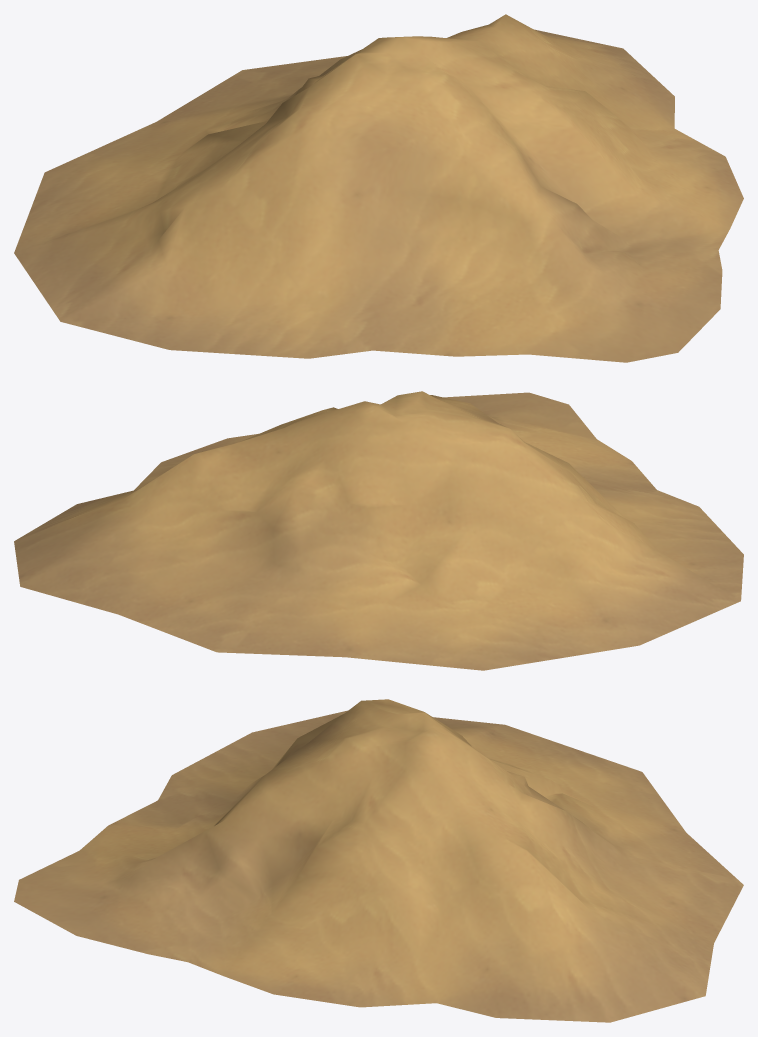
File: Area_11_25.fbx
The picture shows the model from 3 angles, top to bottom: view 1: azimuth 30°, elevation 25°; view 2: azimuth 150°, elevation 25°; view 3: azimuth 270°, elevation 25°; orthographic projection. The views are drawn at different scales.
Parts seen in each view (by area): view 1: Area_11_25; view 2: Area_11_25; view 3: Area_11_25.
Part boxes in pixels (x1=…): Area_11_25: x1=14, y1=14, x2=743, y2=362; Area_11_25: x1=14, y1=391, x2=743, y2=670; Area_11_25: x1=14, y1=699, x2=743, y2=1022.
Size of the model in its own units: 1210 by 266 by 1190.
1 material, 1 textured.
